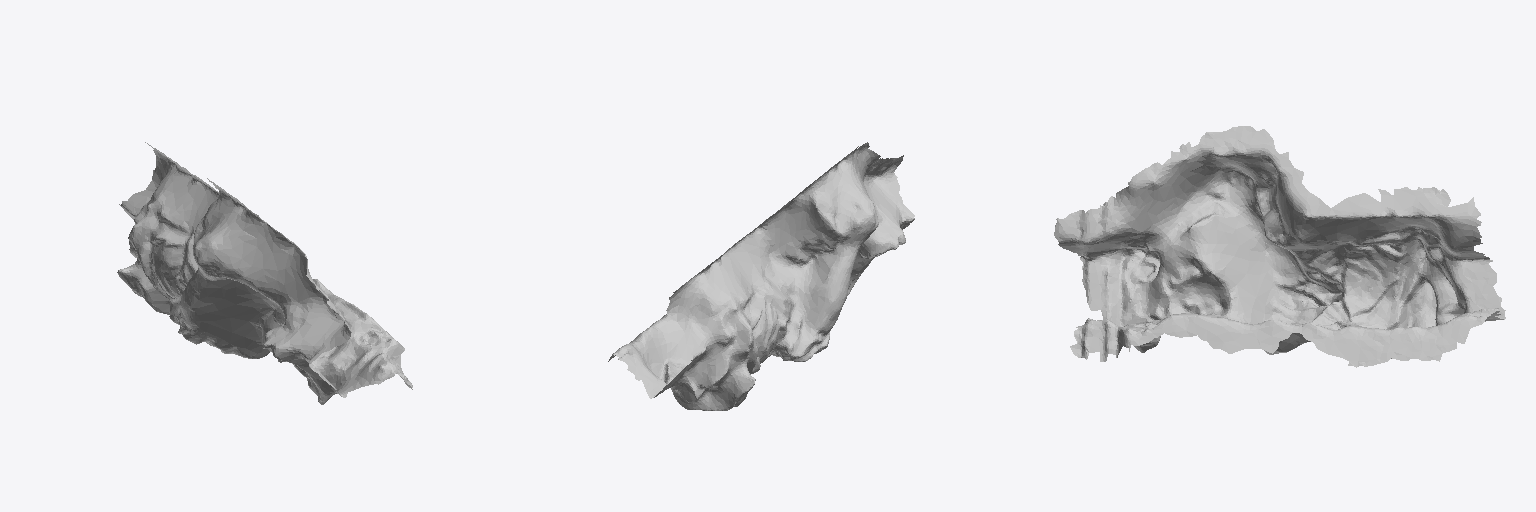
File: domFace02.obj
3 views of the same model, side by side, from view 1: azimuth 30°, elevation 25°; view 2: azimuth 150°, elevation 25°; view 3: azimuth 270°, elevation 25° (orthographic).
Bounding box in the file's own units: 7 × 8.03 × 16.25.